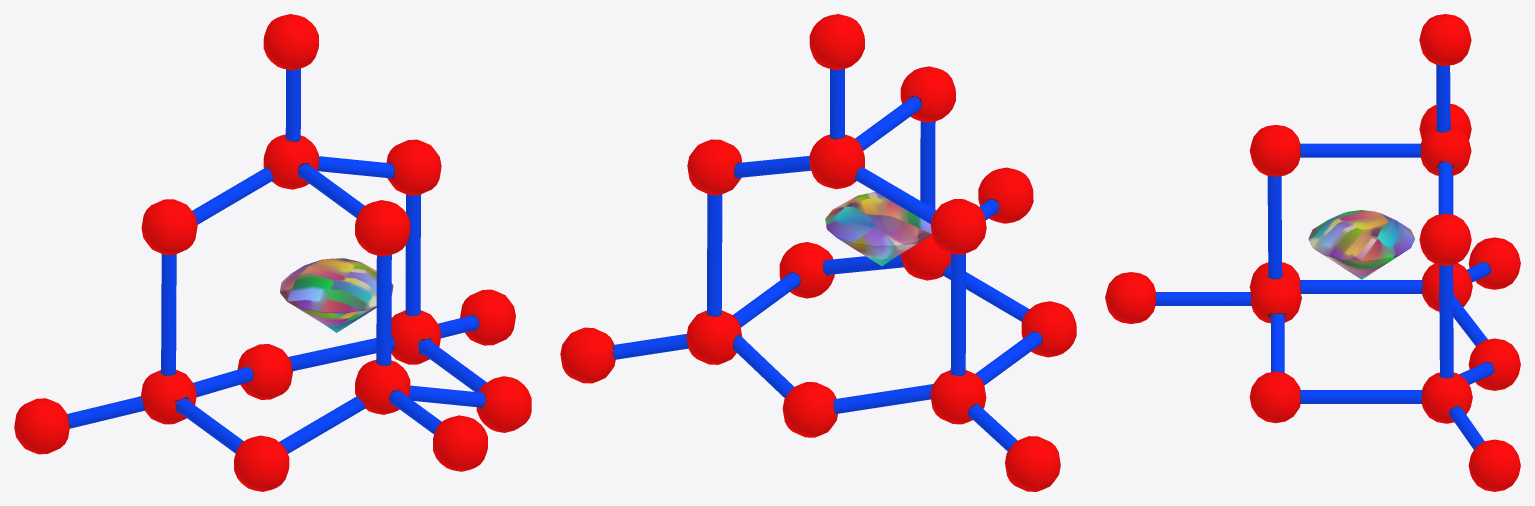
Rendered from diamond.glb.
3 views of the same model, side by side, from view 1: azimuth 30°, elevation 25°; view 2: azimuth 150°, elevation 25°; view 3: azimuth 270°, elevation 25° (orthographic). The views are drawn at different scales.
Visible parts, largest first — view 1: diamond, ThinRing1; view 2: diamond, ThinRing1; view 3: diamond, ThinRing1.
Boxes of the visible parts, x1,y1,x2,y2 form: diamond: (14,14,531,491); ThinRing1: (280,258,393,332); diamond: (560,14,1076,491); ThinRing1: (825,192,931,266); diamond: (1105,14,1520,491); ThinRing1: (1308,210,1414,279).
Bounding box in the file's own units: 11.12 × 8.59 × 8.71.
Materials: 2 (2 with a texture image).
